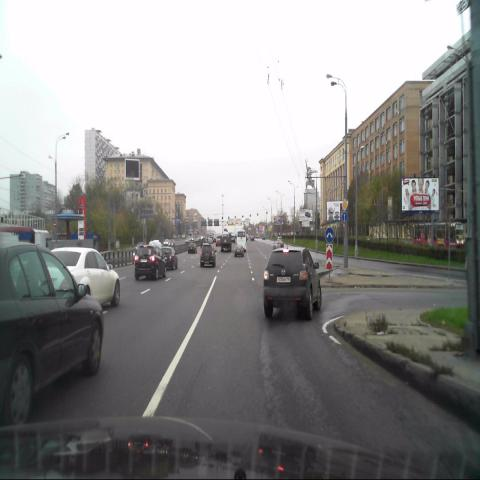4_2_3: (324, 228, 334, 244)
